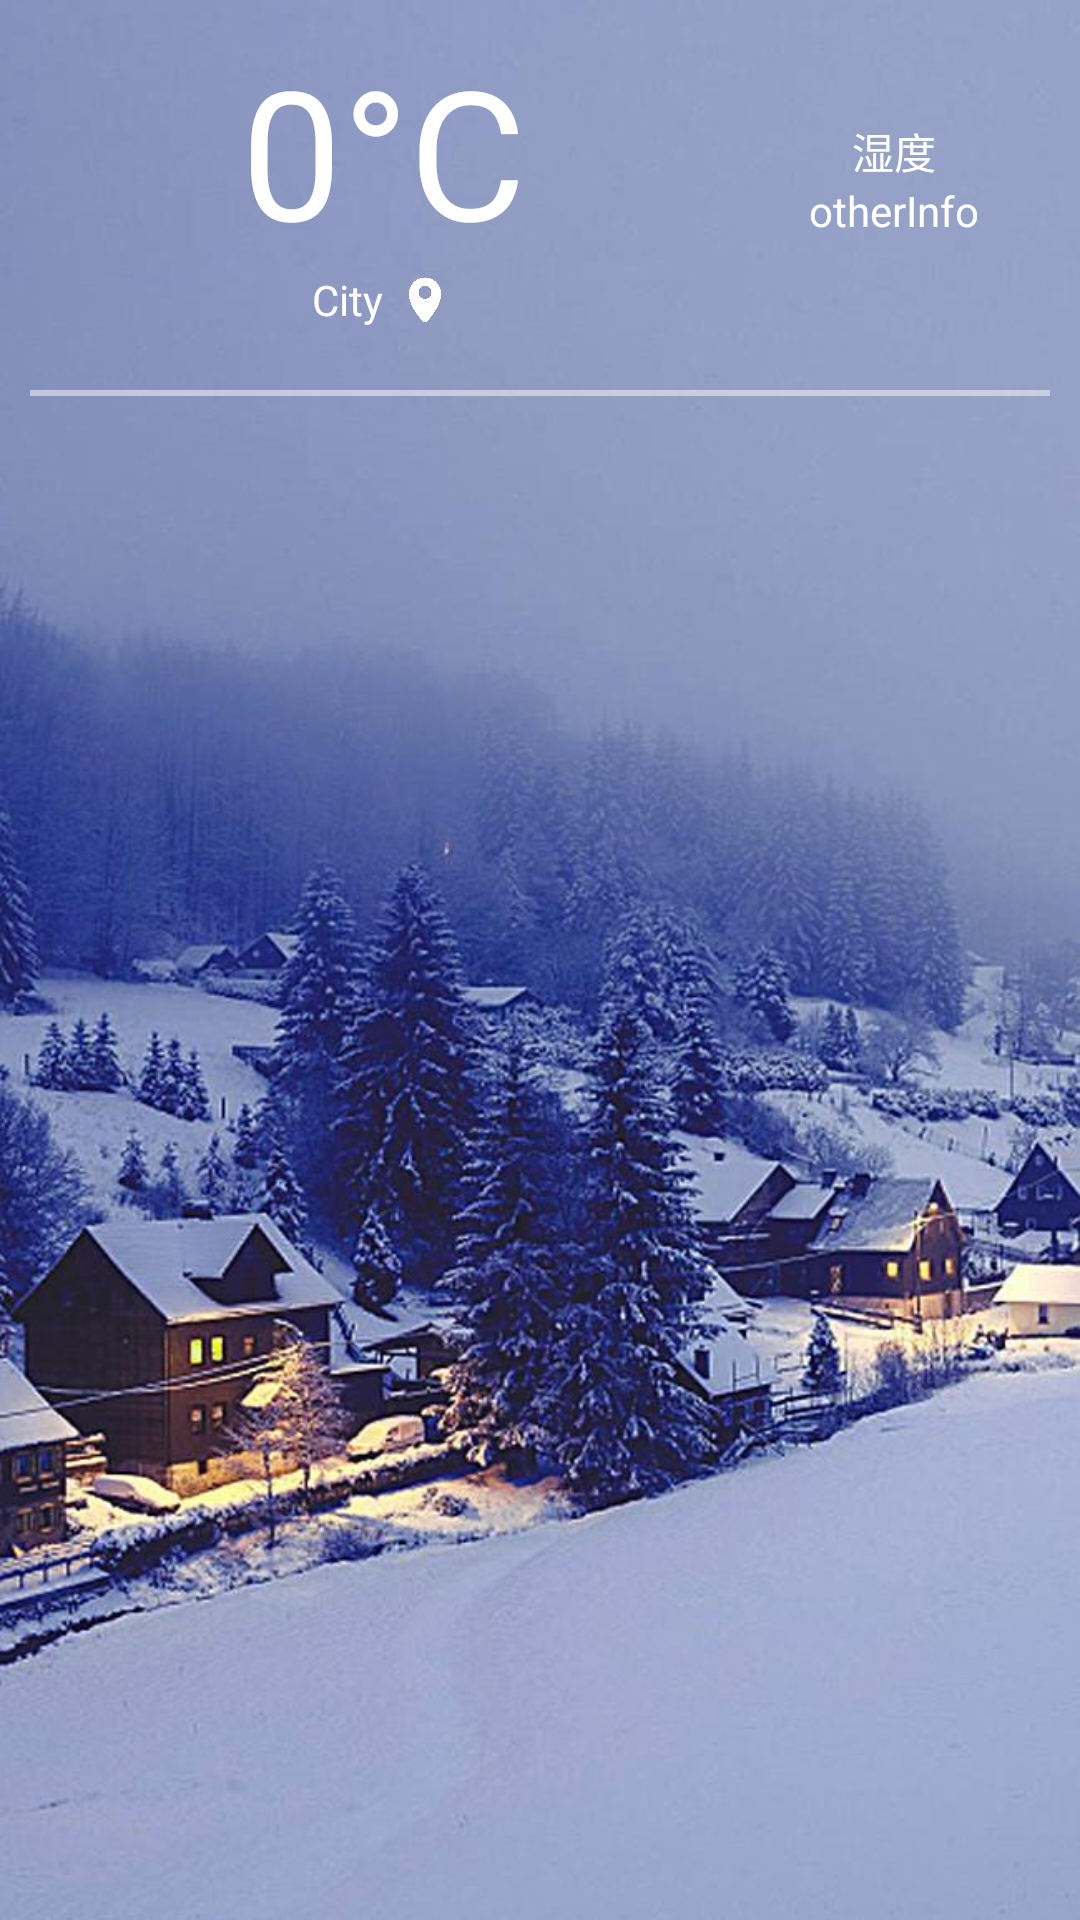

Icons on this 1080 x 1920 Android screen, each with the point to tap as point (x, y):
pos: point (425, 299)
